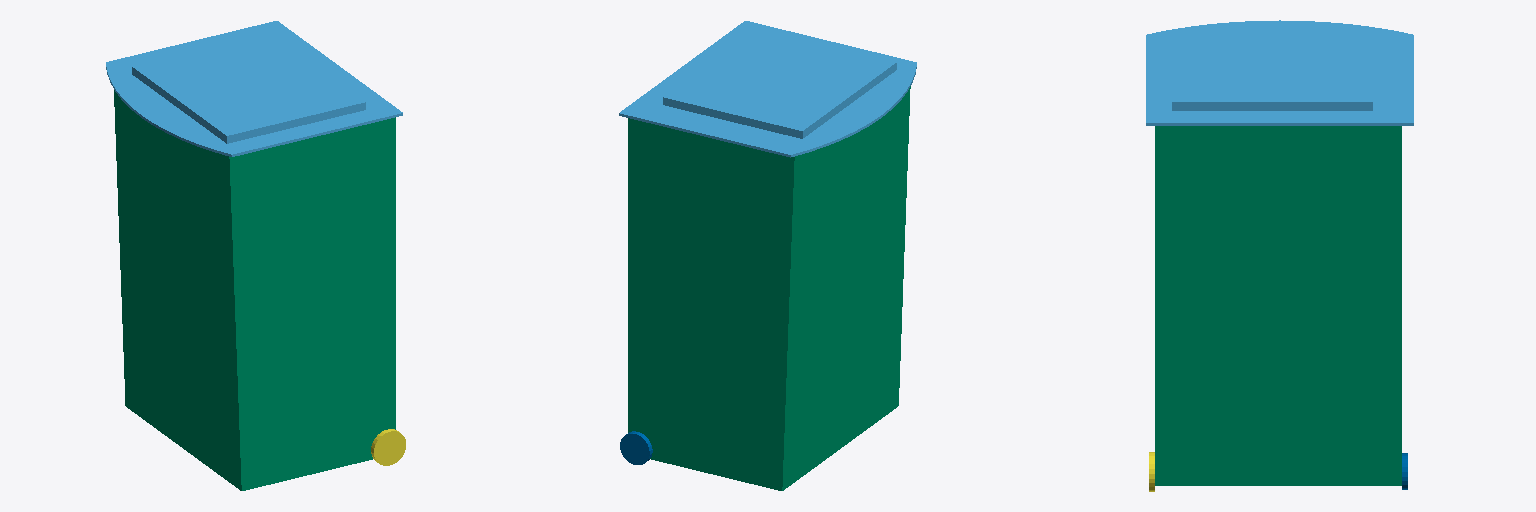
robot.urdf — partnet_64b0698f21be2061fc555f910d0519eb:
<?xml version="1.0" ?>
<robot name="partnet_64b0698f21be2061fc555f910d0519eb">
	<link name="base"/>
	<link name="link_0">
		<visual name="cover_lid-11">
			<origin xyz="0.4681530000000005 -0.71164454701442 0.37379549549147495"/>
			<geometry>
				<mesh filename="textured_objs/new-0.obj"/>
			</geometry>
		</visual>
		<collision>
			<origin xyz="0.4681530000000005 -0.71164454701442 0.37379549549147495"/>
			<geometry>
				<mesh filename="textured_objs/new-0.obj"/>
			</geometry>
		</collision>
	</link>
	<joint name="joint_0" type="revolute">
		<origin xyz="-0.4681530000000005 0.71164454701442 -0.37379549549147495"/>
		<axis xyz="-1 0 0"/>
		<child link="link_0"/>
		<parent link="link_1"/>
		<limit lower="-0.0" upper="1.5707963267948966"/>
	</joint>
	<link name="link_1">
		<visual name="container_box-9">
			<origin xyz="0 0 0"/>
			<geometry>
				<mesh filename="textured_objs/new-2.obj"/>
			</geometry>
		</visual>
		<visual name="container_bottom-10">
			<origin xyz="0 0 0"/>
			<geometry>
				<mesh filename="textured_objs/new-1.obj"/>
			</geometry>
		</visual>
		<collision>
			<origin xyz="0 0 0"/>
			<geometry>
				<mesh filename="textured_objs/new-2.obj"/>
			</geometry>
		</collision>
		<collision>
			<origin xyz="0 0 0"/>
			<geometry>
				<mesh filename="textured_objs/new-1.obj"/>
			</geometry>
		</collision>
	</link>
	<joint name="joint_1" type="fixed">
		<origin rpy="1.570796326794897 0 -1.570796326794897" xyz="0 0 0"/>
		<child link="link_1"/>
		<parent link="base"/>
	</joint>
	<link name="link_2">
		<visual name="wheel-8">
			<origin xyz="-0.5094590000000006 0.7842666089758543 0.3367991225534108"/>
			<geometry>
				<mesh filename="textured_objs/original-3.obj"/>
			</geometry>
		</visual>
		<collision>
			<origin xyz="-0.5094590000000006 0.7842666089758543 0.3367991225534108"/>
			<geometry>
				<mesh filename="textured_objs/original-3.obj"/>
			</geometry>
		</collision>
	</link>
	<joint name="joint_2" type="continuous">
		<origin xyz="0.5094590000000006 -0.7842666089758543 -0.3367991225534108"/>
		<axis xyz="1 0 0"/>
		<child link="link_2"/>
		<parent link="link_1"/>
	</joint>
	<link name="link_3">
		<visual name="wheel-7">
			<origin xyz="0.49170999999999987 0.7880088053700798 0.3337949364489107"/>
			<geometry>
				<mesh filename="textured_objs/original-2.obj"/>
			</geometry>
		</visual>
		<collision>
			<origin xyz="0.49170999999999987 0.7880088053700798 0.3337949364489107"/>
			<geometry>
				<mesh filename="textured_objs/original-2.obj"/>
			</geometry>
		</collision>
	</link>
	<joint name="joint_3" type="continuous">
		<origin xyz="-0.49170999999999987 -0.7880088053700798 -0.3337949364489107"/>
		<axis xyz="1 0 0"/>
		<child link="link_3"/>
		<parent link="link_1"/>
	</joint>
</robot>

--- Facts derived from the render (not from the file) ---
3 views of the same robot in one strip: view 1: azimuth 30°, elevation 25°; view 2: azimuth 150°, elevation 25°; view 3: azimuth 270°, elevation 25° (orthographic).
Model partnet_64b0698f21be2061fc555f910d0519eb with 5 links and 4 joints (1 revolute, 2 continuous, 1 fixed), rooted at base, posed all joints at 0.
Links seen in each view (by area): view 1: link_1, link_0, link_2; view 2: link_1, link_0, link_3; view 3: link_1, link_0.
Boxes of the visible links, x1,y1,x2,y2 form: link_1: (114, 90, 395, 490); link_0: (106, 21, 402, 156); link_2: (371, 429, 405, 465); link_1: (628, 86, 910, 490); link_0: (619, 21, 916, 157); link_3: (620, 431, 652, 464); link_1: (1155, 126, 1401, 485); link_0: (1146, 20, 1413, 125).
Size in the robot's own frame: 0.9629 by 1.04 by 1.62 metres.
Meshes: 5 distinct files referenced, 5 mesh visuals loaded (5 OBJ).